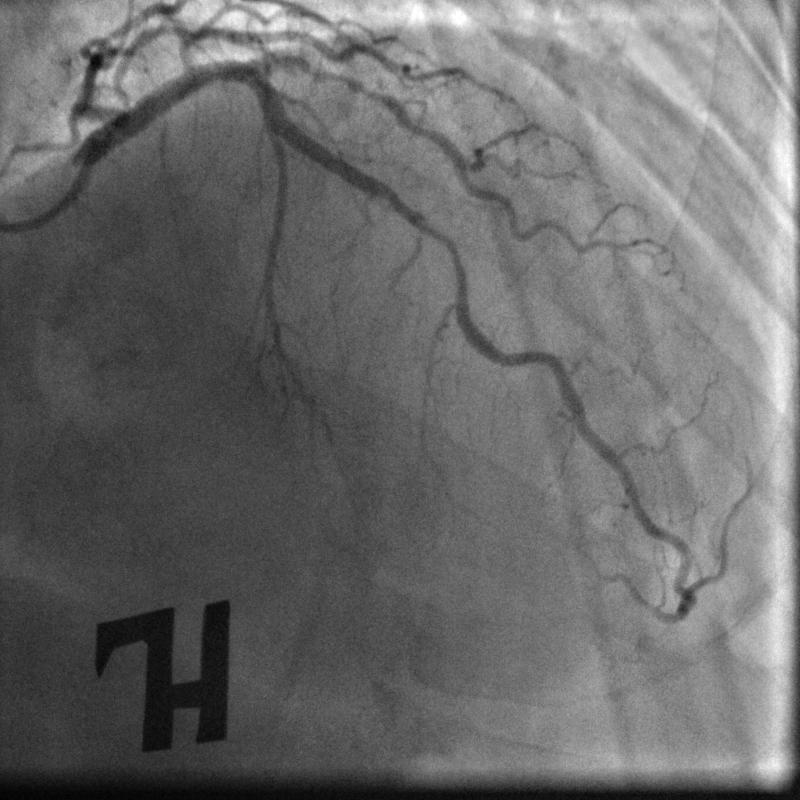Stenosis: (421, 211, 467, 290)
